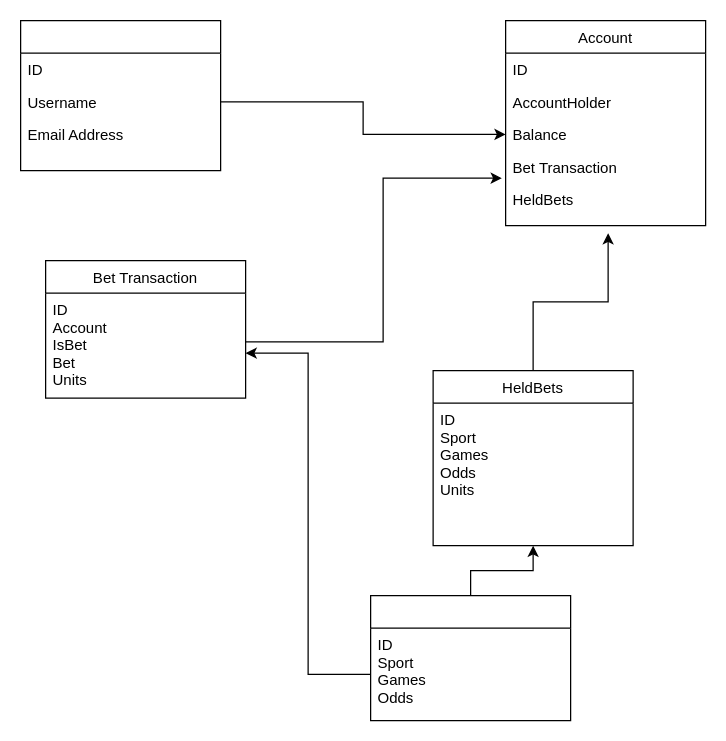
This 726x741 diagram has some shape labels left out. Here are the shapes that lost their labels. From the top down, the box of each, then its label:
(19, 19, 221, 171): Person
(369, 594, 571, 721): Bets
